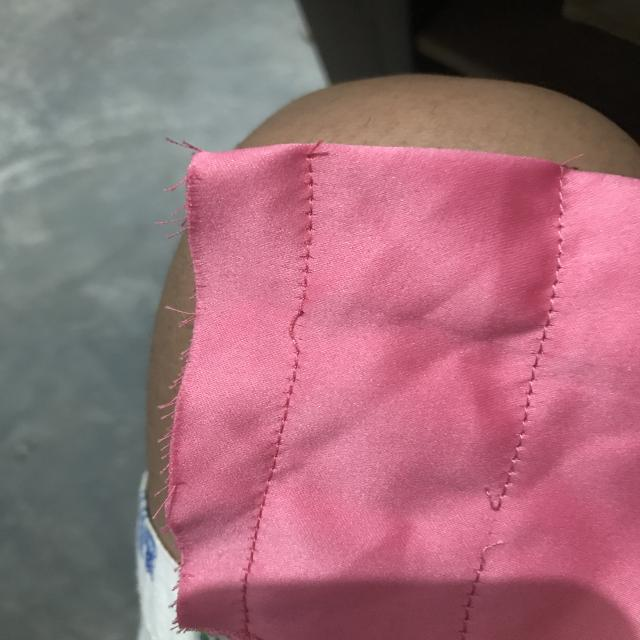broken: (458, 462, 529, 589)
good: (534, 289, 566, 379), (252, 439, 288, 518)
skip: (269, 305, 328, 368)
